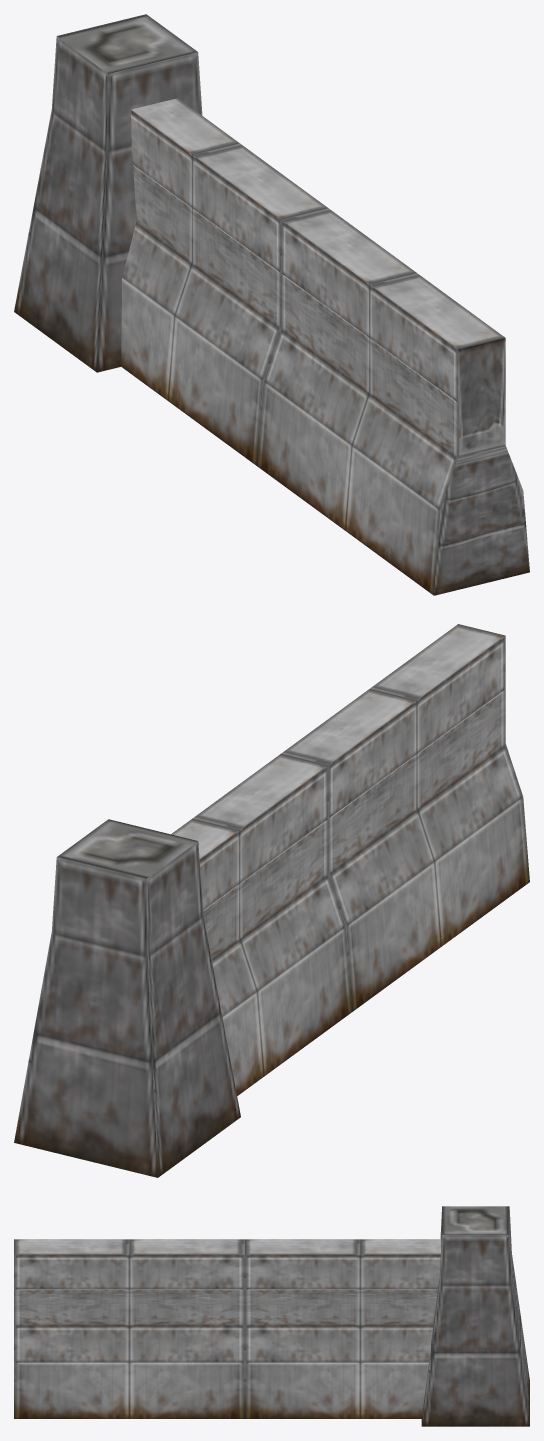
The model's file is s_mediumwall.glb.
3 renders of one model, top to bottom at view 1: azimuth 30°, elevation 25°; view 2: azimuth 150°, elevation 25°; view 3: azimuth 270°, elevation 25°, orthographic. The views are drawn at different scales.
Parts seen in each view (by area): view 1: S_MediumWall; view 2: S_MediumWall; view 3: S_MediumWall.
Part boxes in pixels (x1,y1,x2,y2): S_MediumWall: (14, 14, 529, 595); S_MediumWall: (14, 624, 529, 1177); S_MediumWall: (14, 1206, 529, 1426).
Bounding box in the file's own units: 6 × 11.19 × 28.6.
Materials: 1 (1 with a texture image).
